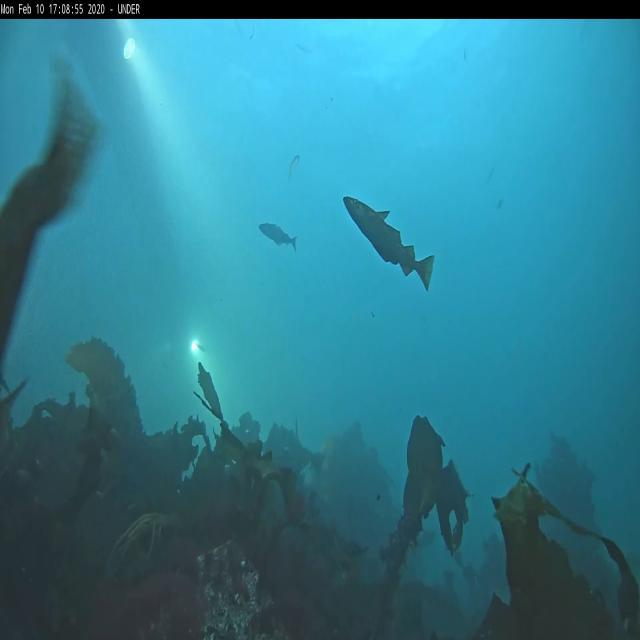fish: (1, 56, 110, 376), (342, 194, 435, 292), (258, 219, 297, 253), (288, 154, 298, 180)
